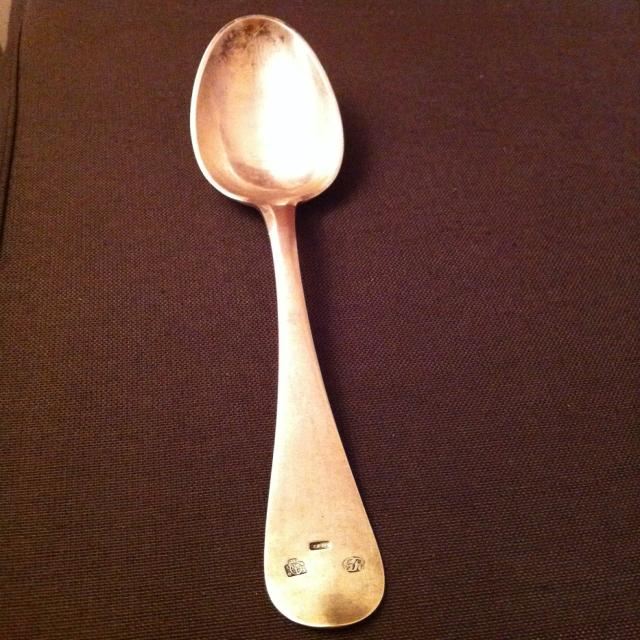spoon: (171, 2, 410, 636)
